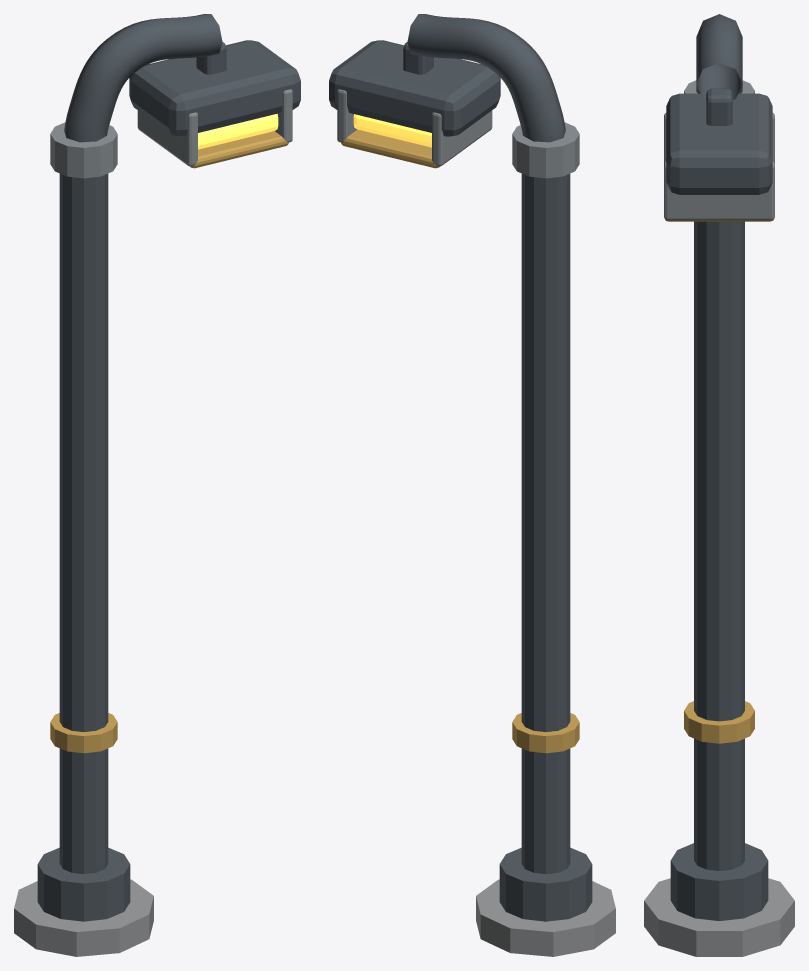
The model's file is poste-de-luz-beco.glb.
3 views of the same model, side by side, from view 1: azimuth 30°, elevation 25°; view 2: azimuth 150°, elevation 25°; view 3: azimuth 270°, elevation 25° (orthographic). The views are drawn at different scales.
Visible parts, largest first — view 1: Haste principal, Carcaça da luminária, Braço curvo, Base de concreto, Sapato metálico, Topo do poste, Anel decorativo, Friso inferior, Aleta da luminária, Difusor quente, Aleta da luminária.001, Suporte da luminária; view 2: Haste principal, Carcaça da luminária, Braço curvo, Base de concreto, Sapato metálico, Topo do poste, Friso inferior, Anel decorativo, Aleta da luminária, Difusor quente, Aleta da luminária.001, Suporte da luminária; view 3: Haste principal, Carcaça da luminária, Base de concreto, Sapato metálico, Braço curvo, Aleta da luminária.001, Anel decorativo, Suporte da luminária.
Part boxes in pixels (x1,y1,x2,y2): Haste principal: (59, 173, 108, 874); Carcaça da luminária: (129, 40, 300, 136); Braço curvo: (64, 14, 222, 142); Base de concreto: (14, 879, 153, 956); Sapato metálico: (37, 847, 130, 921); Topo do poste: (50, 122, 117, 178); Anel decorativo: (50, 713, 117, 753); Friso inferior: (190, 131, 288, 168); Aleta da luminária: (137, 110, 197, 166); Difusor quente: (198, 113, 278, 149); Aleta da luminária.001: (275, 89, 292, 142); Suporte da luminária: (196, 42, 226, 74); Haste principal: (521, 173, 570, 874); Carcaça da luminária: (329, 40, 500, 136); Braço curvo: (407, 14, 565, 142); Base de concreto: (476, 879, 615, 956); Sapato metálico: (499, 847, 592, 921); Topo do poste: (512, 122, 579, 178); Friso inferior: (341, 129, 439, 168); Anel decorativo: (512, 713, 579, 753); Aleta da luminária: (432, 110, 492, 166); Difusor quente: (353, 114, 431, 147); Aleta da luminária.001: (337, 89, 356, 142); Suporte da luminária: (403, 42, 433, 74); Haste principal: (694, 221, 744, 870); Carcaça da luminária: (666, 93, 772, 194); Base de concreto: (644, 878, 794, 956); Sapato metálico: (670, 843, 768, 920); Braço curvo: (696, 14, 742, 99); Aleta da luminária.001: (664, 161, 774, 220); Anel decorativo: (684, 701, 754, 743); Suporte da luminária: (706, 88, 732, 125).
Size of the model in its own units: 1.4 by 4.67 by 0.68.
